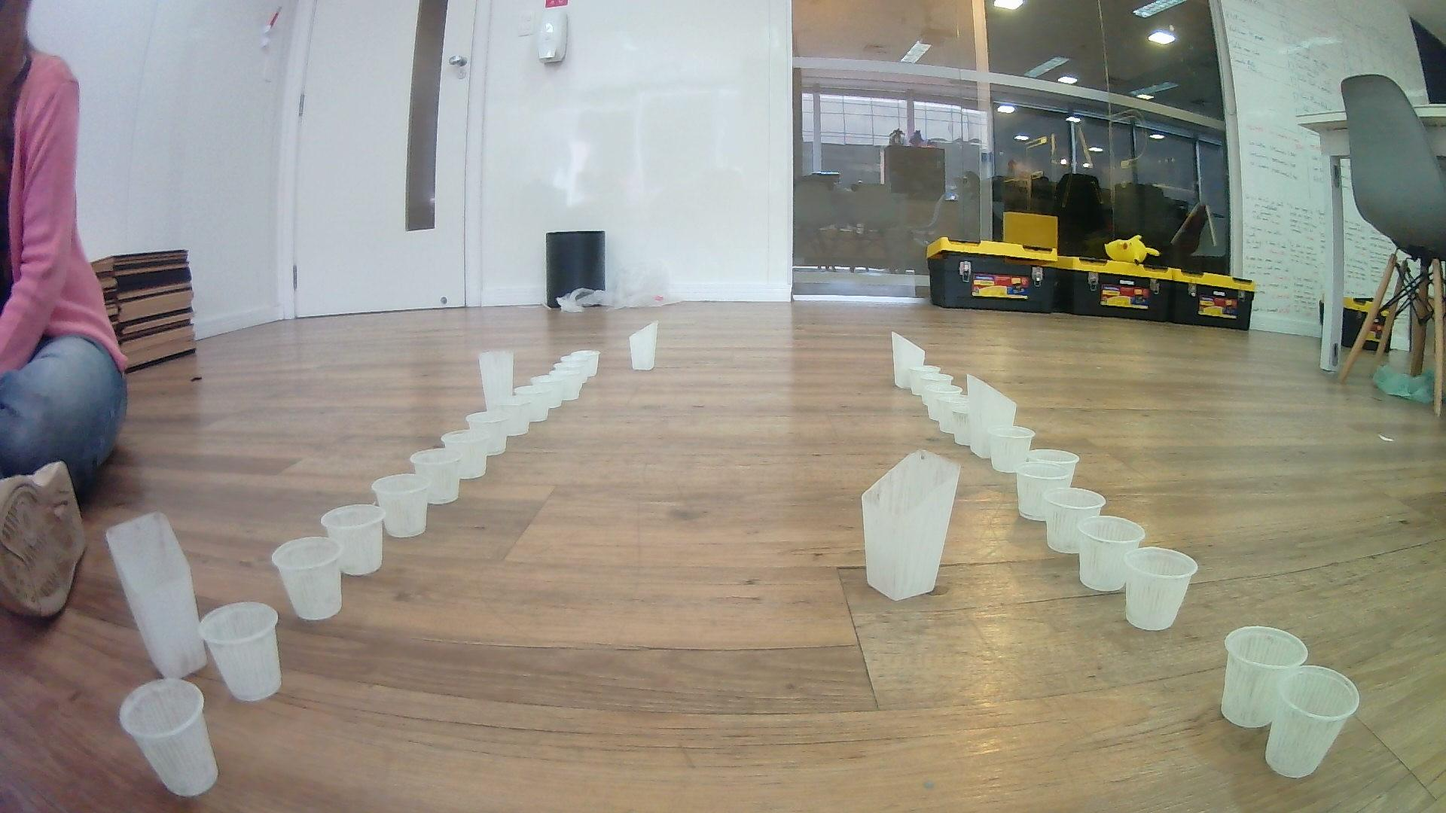erva_daninha: (105, 510, 209, 680), (859, 447, 962, 602), (966, 373, 1019, 461), (478, 350, 515, 413), (890, 330, 926, 390), (629, 321, 659, 371)
planta: (119, 677, 219, 798), (1264, 664, 1360, 779), (1220, 625, 1310, 729), (198, 601, 283, 703), (1123, 547, 1200, 632), (272, 536, 344, 621), (1077, 515, 1146, 592), (320, 503, 385, 577), (1043, 487, 1106, 555), (371, 472, 431, 539), (1016, 461, 1075, 522), (410, 446, 461, 505), (441, 428, 489, 480), (987, 425, 1036, 473), (1027, 448, 1081, 489), (465, 410, 508, 456), (490, 395, 532, 437), (925, 384, 963, 423), (512, 385, 549, 422), (919, 374, 954, 410), (938, 396, 969, 434), (529, 375, 563, 409), (906, 365, 941, 397), (548, 368, 582, 400), (554, 361, 588, 386), (951, 406, 972, 446), (570, 350, 600, 376), (560, 356, 593, 379)
